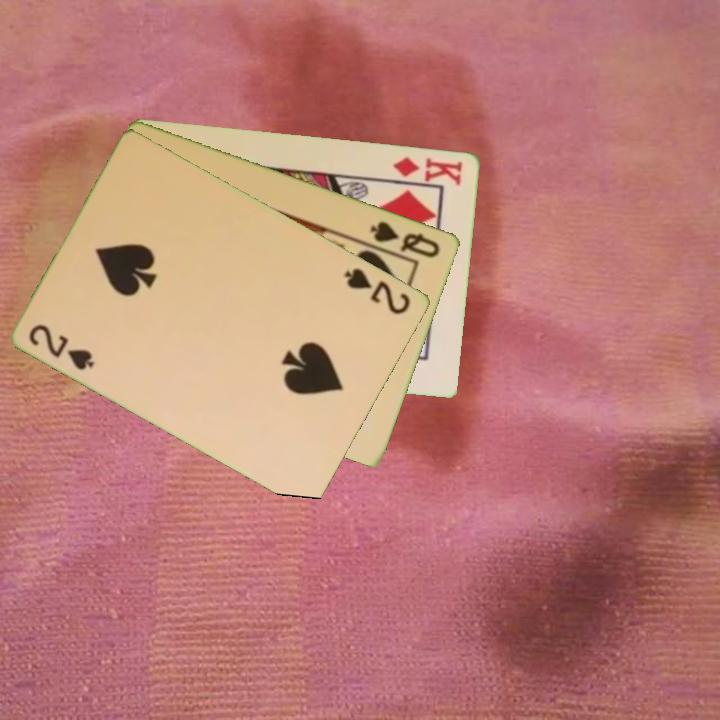2s: (25, 320, 99, 373), (341, 264, 414, 317)
Kd: (390, 153, 466, 188)
Qs: (367, 217, 444, 261)
